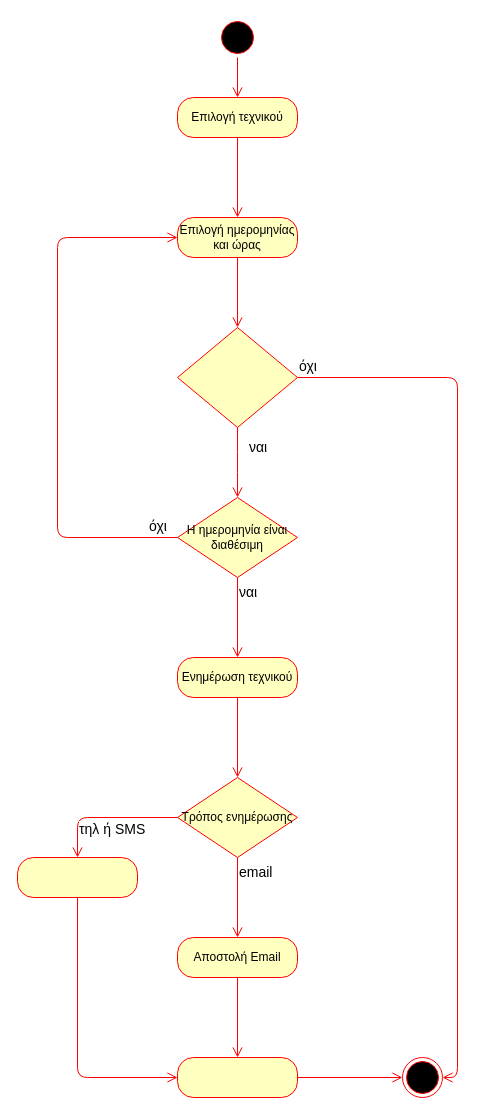
This 485x1115 diagram has some shape labels left out. Each missing label, with the centre of its shape:
Αποθήκευση νέου ραντεβού: the point at 237,1077
Ενημέρωση μέσω τηλεφώνου: the point at 77,877
Ο πελάτης επιλέγει ημερομηνία: the point at 237,377
